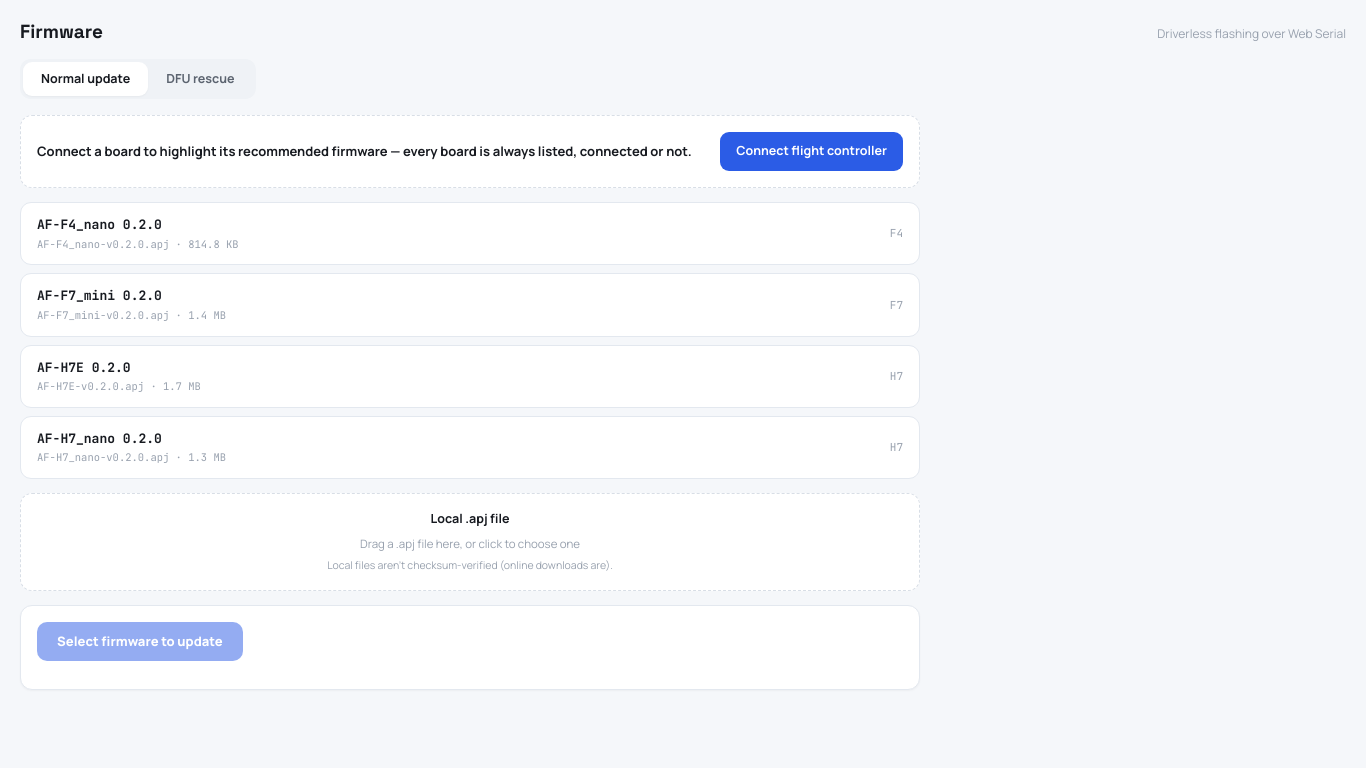
it: FirmwarePage — direct-bootloader entry (issue #29) › appears once disconnected with a board selected, and opens the port picker on click
What coordinates should you click on to do the following:
click the button "AF-F4_nano 0.2.0 AF-F4_nano-v0.2.0.apj · 814.8 KB F4"
I would click on:
 (76, 224)
Its box is [20,202,920,265].
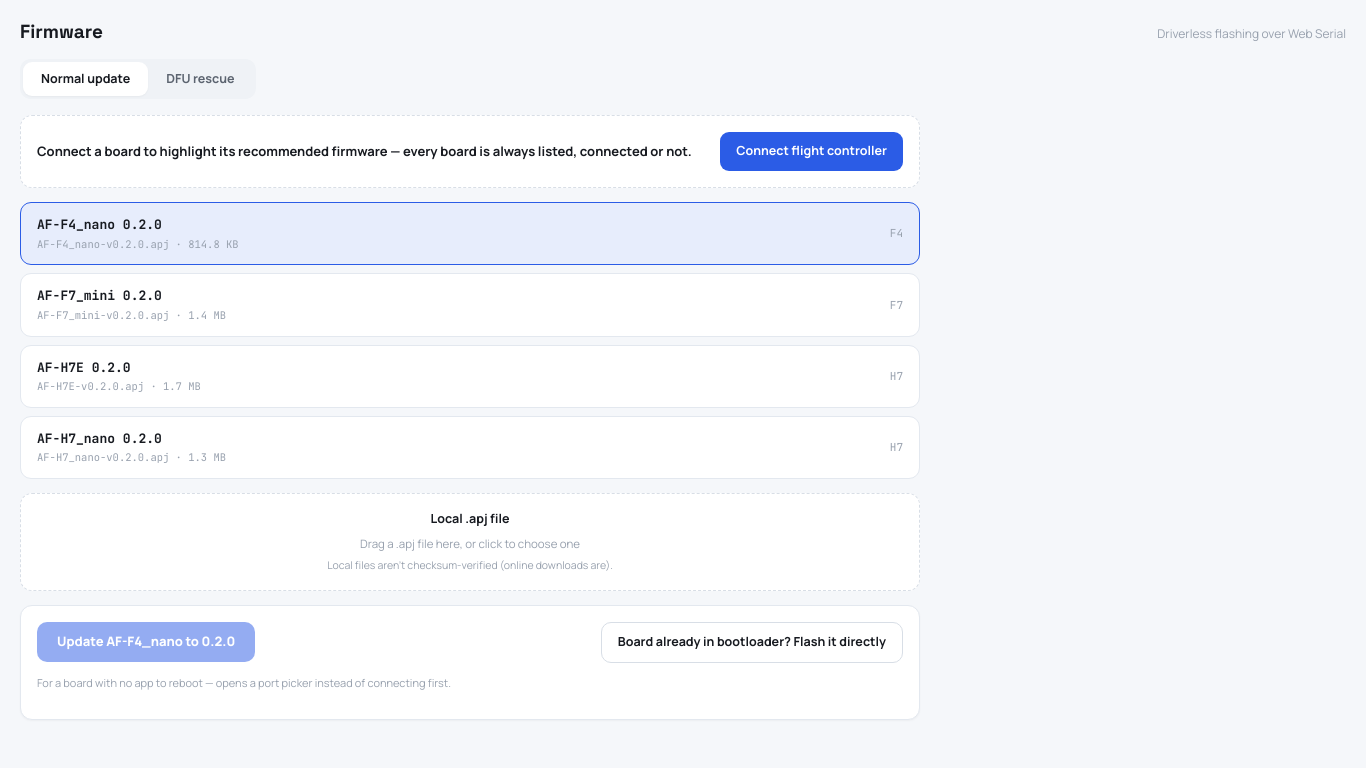
Expected: the button "Board already in bootloader? Flash it directly" is enabled
What coordinates should you click on to do the following:
click the button "Board already in bootloader? Flash it directly"
I would click on:
 (752, 642)
Its box is [601,622,903,663].
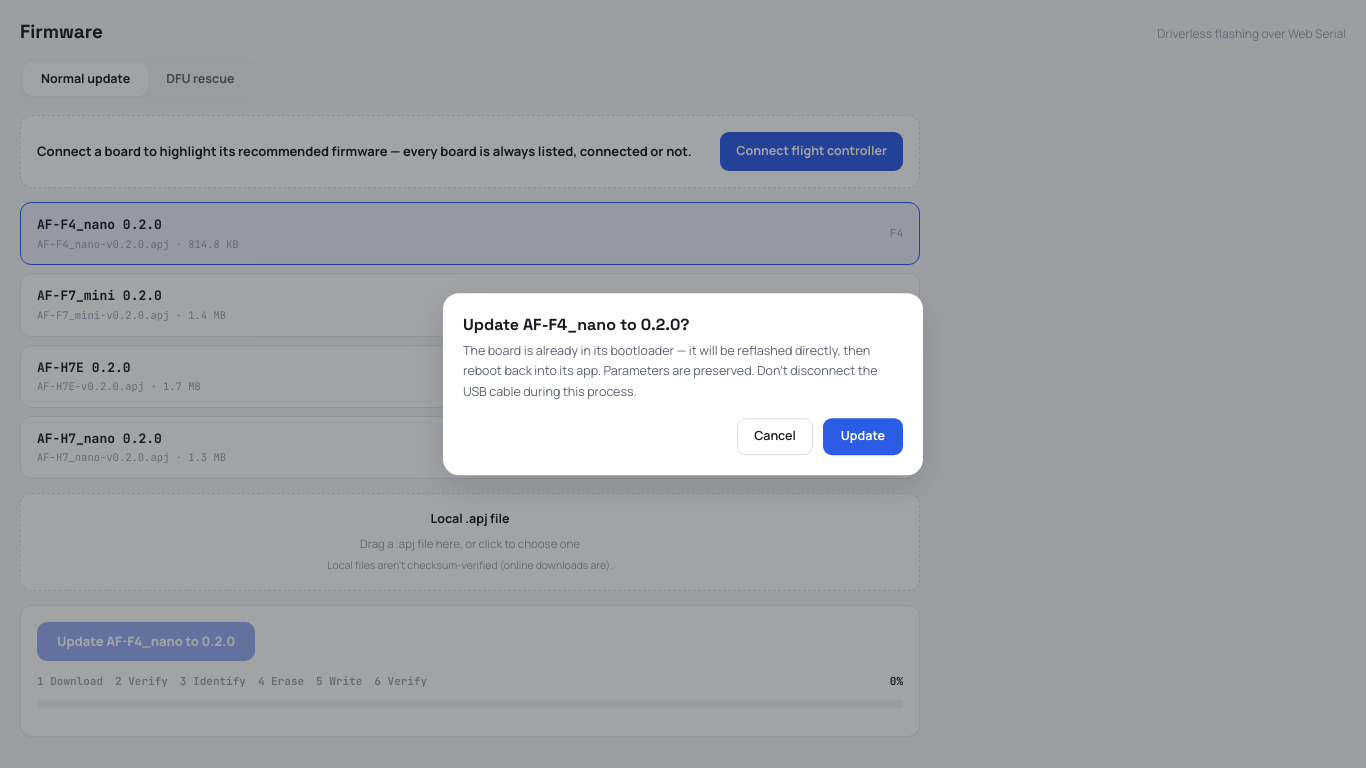
Expected: the text "already in its bootloader" is shown, [463,342,878,400]
